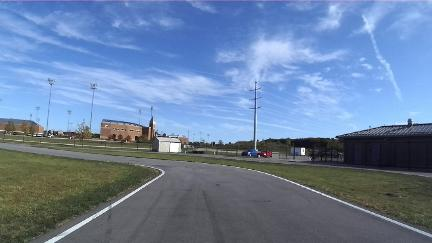Grass: (53, 148, 431, 229), (0, 150, 158, 242), (0, 135, 150, 150)
Lane: (0, 144, 431, 242)
